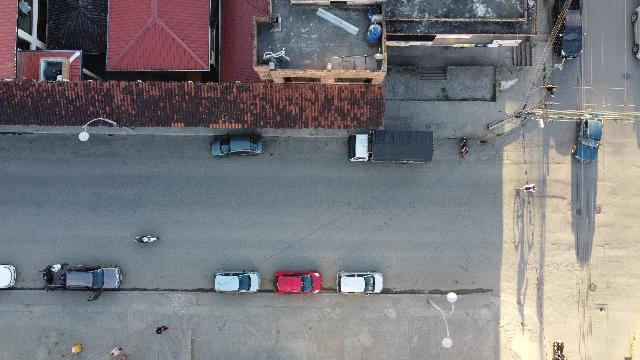Vehiculo: (551, 0, 582, 59), (572, 109, 602, 162), (65, 265, 121, 289), (210, 134, 264, 158), (274, 270, 322, 294), (337, 270, 383, 294), (214, 271, 260, 292), (631, 6, 640, 60), (0, 265, 16, 289)
